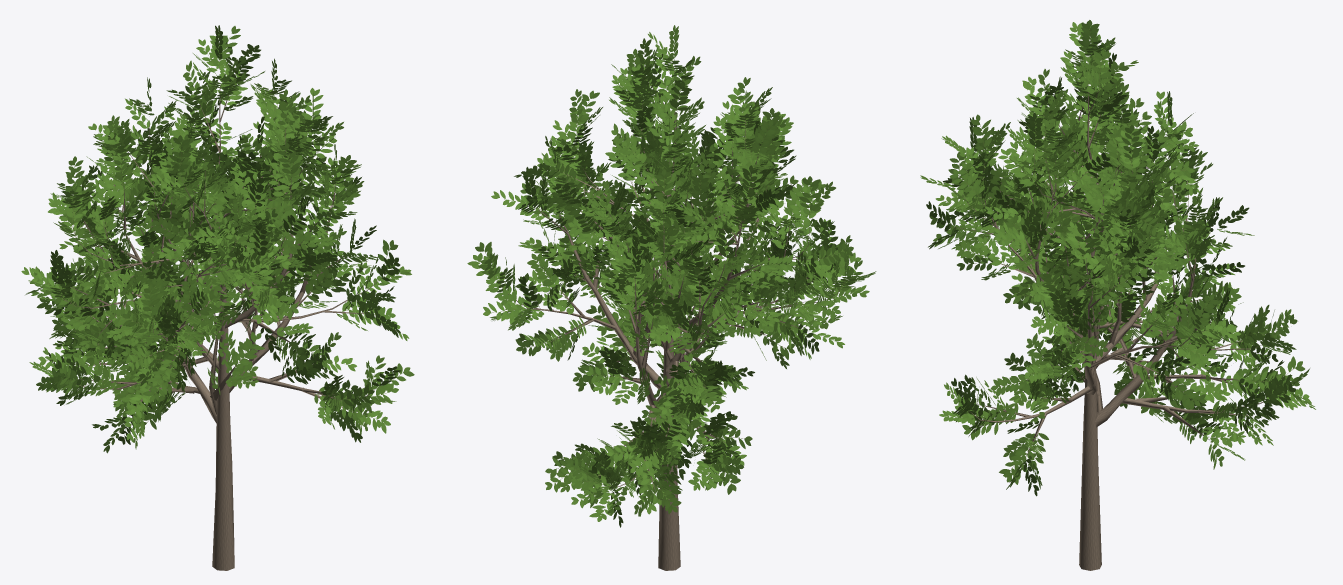
The model's file is oak-lod1.glb.
The picture shows the model from 3 angles, left to right: view 1: azimuth 30°, elevation 25°; view 2: azimuth 150°, elevation 25°; view 3: azimuth 270°, elevation 25°; orthographic projection.
Parts seen in each view (by area): view 1: SM_AtlasEzOak; view 2: SM_AtlasEzOak; view 3: SM_AtlasEzOak.
Part boxes in pixels (box(x1,y1,x2,y2)): SM_AtlasEzOak: box(21, 25, 414, 570); SM_AtlasEzOak: box(467, 25, 876, 570); SM_AtlasEzOak: box(920, 20, 1315, 570).
Size of the model in its own units: 11.69 by 15.87 by 10.84.
Materials: 2 (2 with a texture image).
